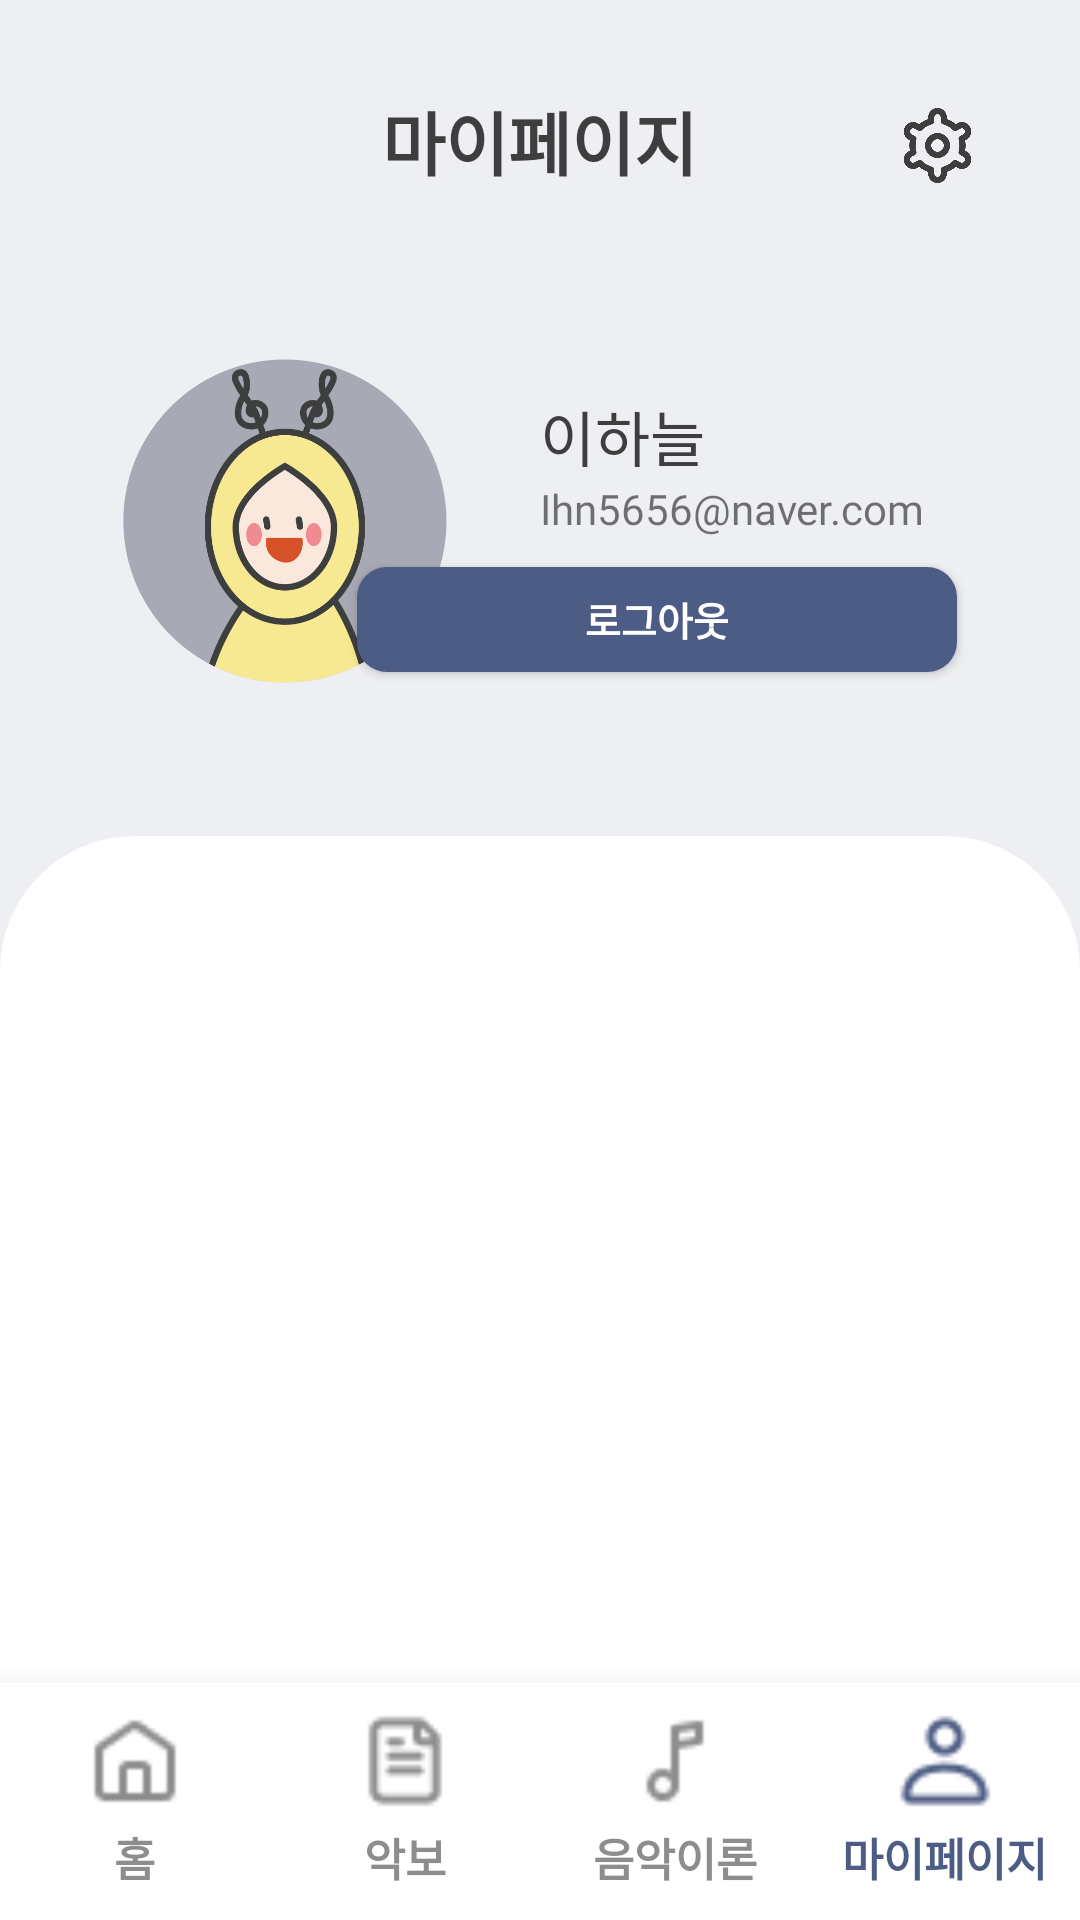

Named icons in this screenshot (1080px x 1920px) and their centers, (x=x, y=y):
mypic: (x=286, y=521)
setting: (x=937, y=145)
